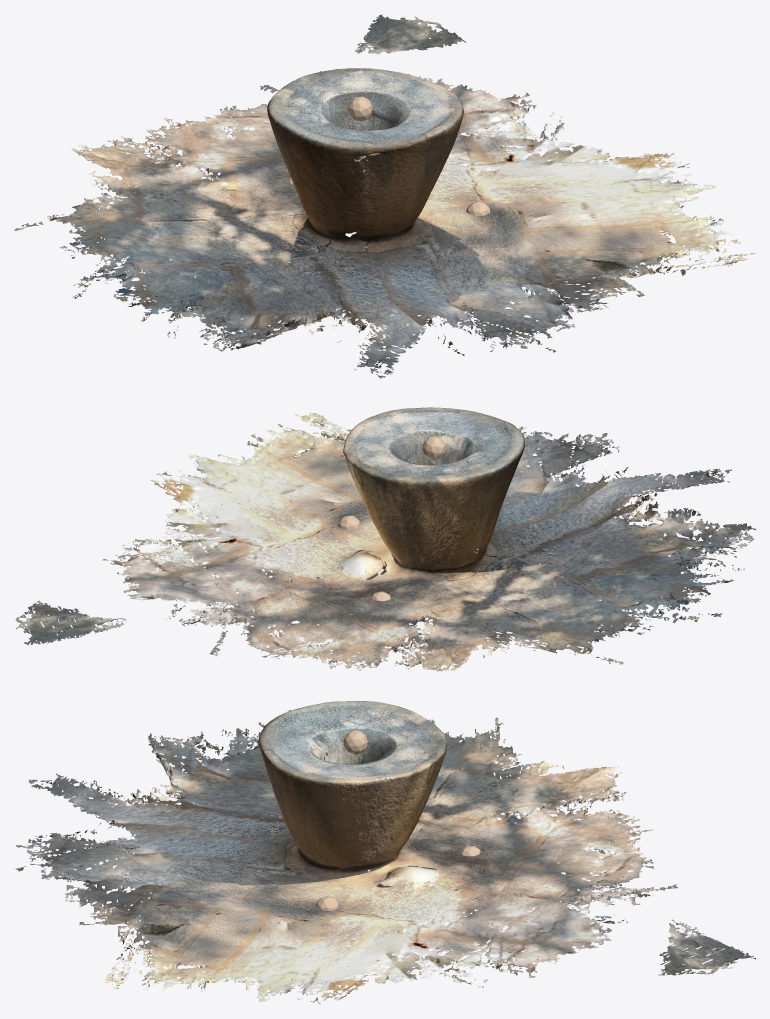
Rendered from grinder.gltf.
3 renders of one model, top to bottom at view 1: azimuth 30°, elevation 25°; view 2: azimuth 150°, elevation 25°; view 3: azimuth 270°, elevation 25°, orthographic. The views are drawn at different scales.
Parts seen in each view (by area): view 1: TexturedMeshSimplified; view 2: TexturedMeshSimplified, Icosphere.002; view 3: TexturedMeshSimplified.
Boxes of the visible parts, bbox=[...] form: TexturedMeshSimplified: bbox=[14, 14, 755, 378]; TexturedMeshSimplified: bbox=[15, 407, 755, 672]; Icosphere.002: bbox=[422, 436, 445, 460]; TexturedMeshSimplified: bbox=[14, 701, 755, 1004].
Size of the model in its own units: 4.27 by 0.9645 by 4.64.
13 materials, 10 textured.
